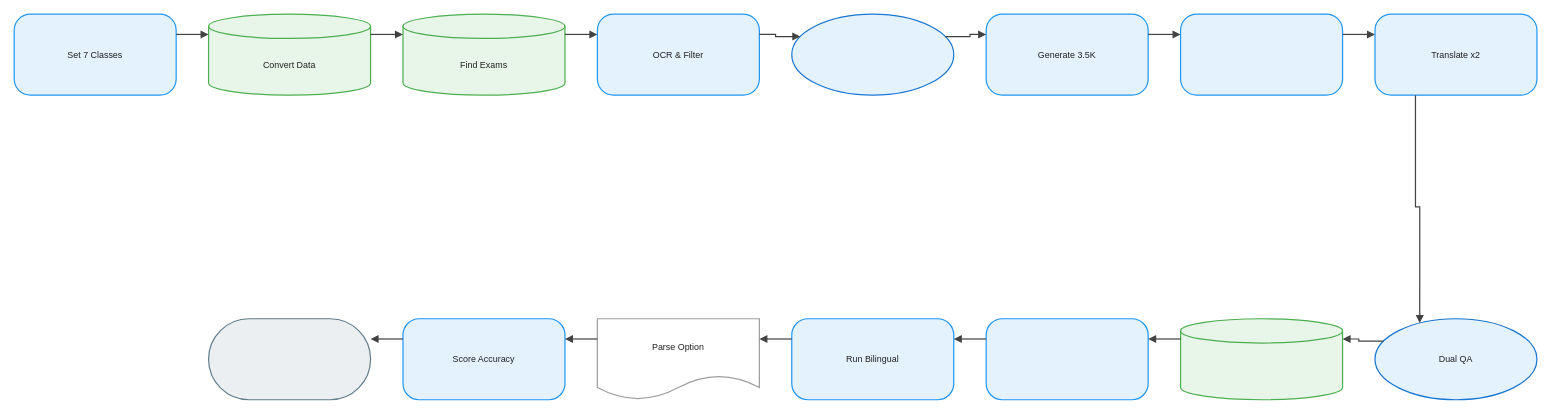
This 1552x415 diagram has some shape labels left out. Here are the shapes that lost their labels. From the top down, the centre of each, then its label:
At point 872,54: "Verify 2K".
At point 1261,54: "Dedup & Fix".
At point 289,359: "Analyze Slices".
At point 1066,359: "Build 0/5-shot".
At point 1261,359: "Freeze 11,435".
